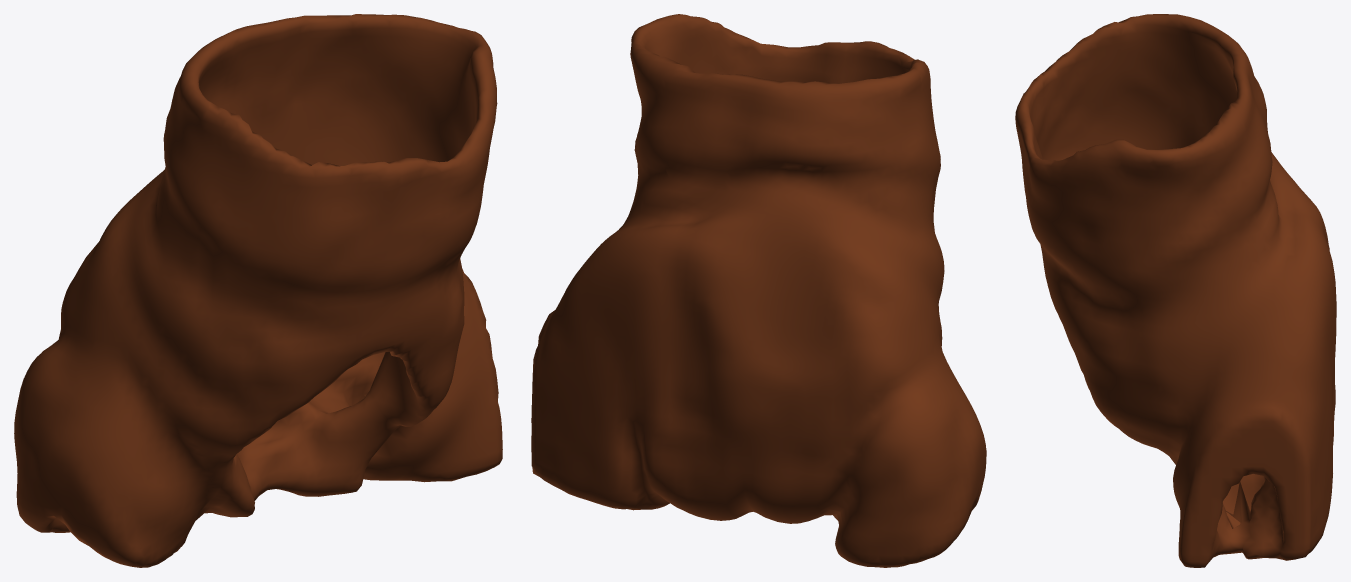
Rendered from Pat2_Mav_SkinMuscle_Solid.fbx.
3 views of the same model, side by side, from view 1: azimuth 30°, elevation 25°; view 2: azimuth 150°, elevation 25°; view 3: azimuth 270°, elevation 25° (orthographic). The views are drawn at different scales.
Visible parts, largest first — view 1: Seg_MuscleSkin; view 2: Seg_MuscleSkin; view 3: Seg_MuscleSkin.
Boxes of the visible parts, <box> form: Seg_MuscleSkin: <box>14,14,502,567</box>; Seg_MuscleSkin: <box>531,14,986,567</box>; Seg_MuscleSkin: <box>1015,14,1336,567</box>.
Bounding box in the file's own units: 213 × 222 × 151.
